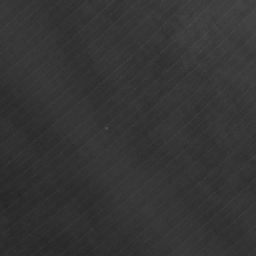Target: (103, 125, 108, 131)
